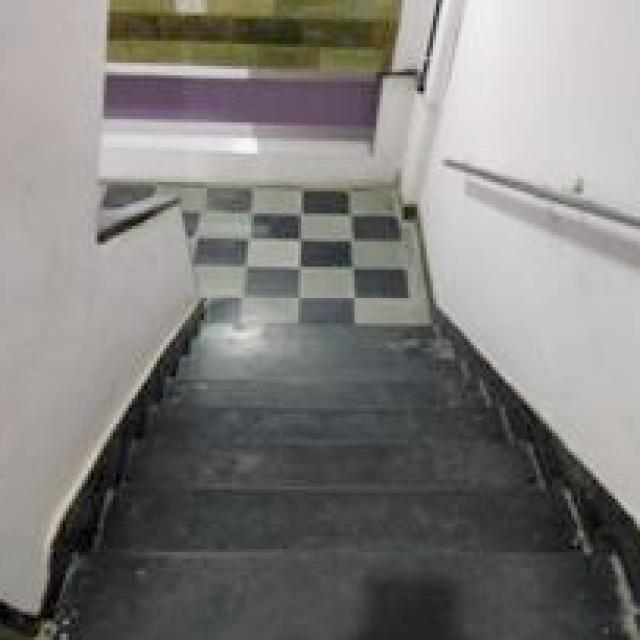downstair: (70, 453, 594, 635)
